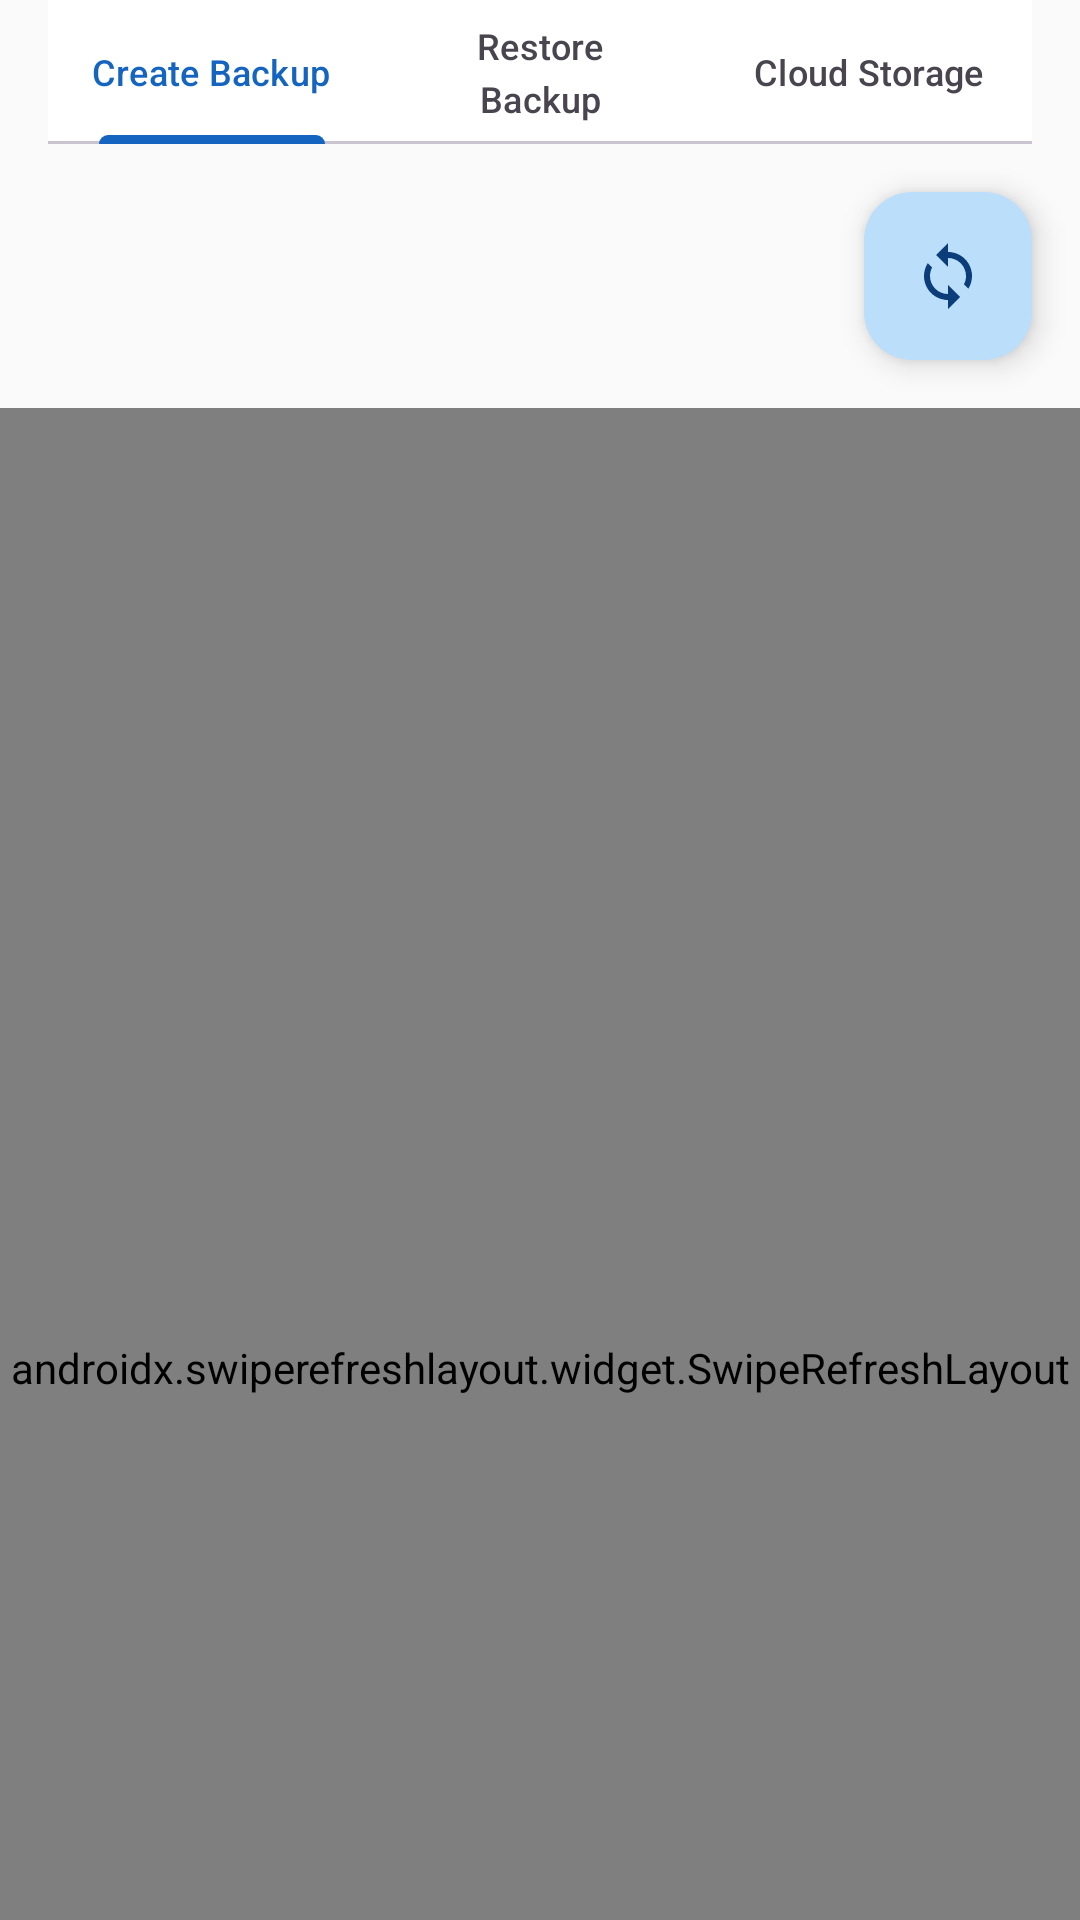

Screen size 1080 × 1920. Icon name, then its box in pixels as (x1, y1, x2, y2):
recover: (864, 192, 1032, 360)
